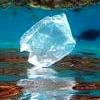Trash: (16, 10, 87, 70)
